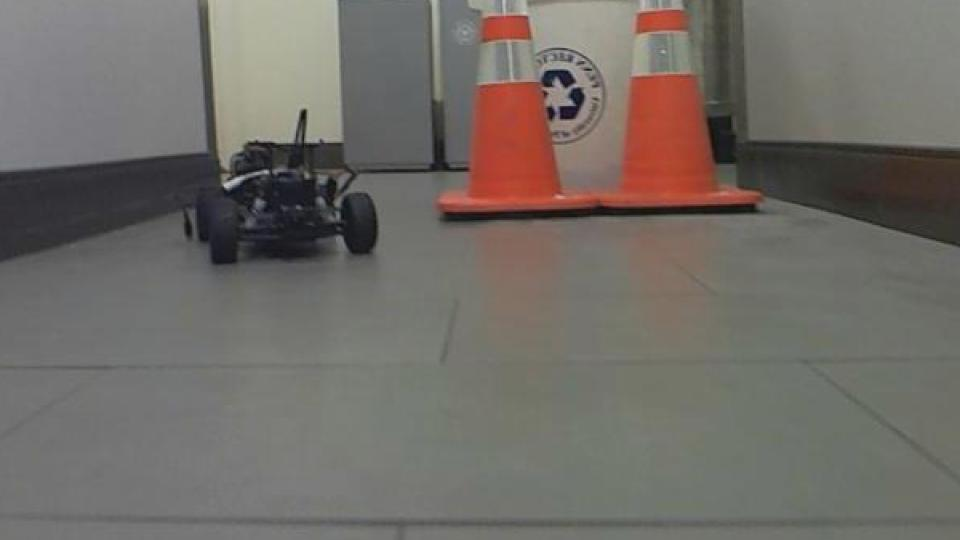car: (176, 106, 381, 267)
